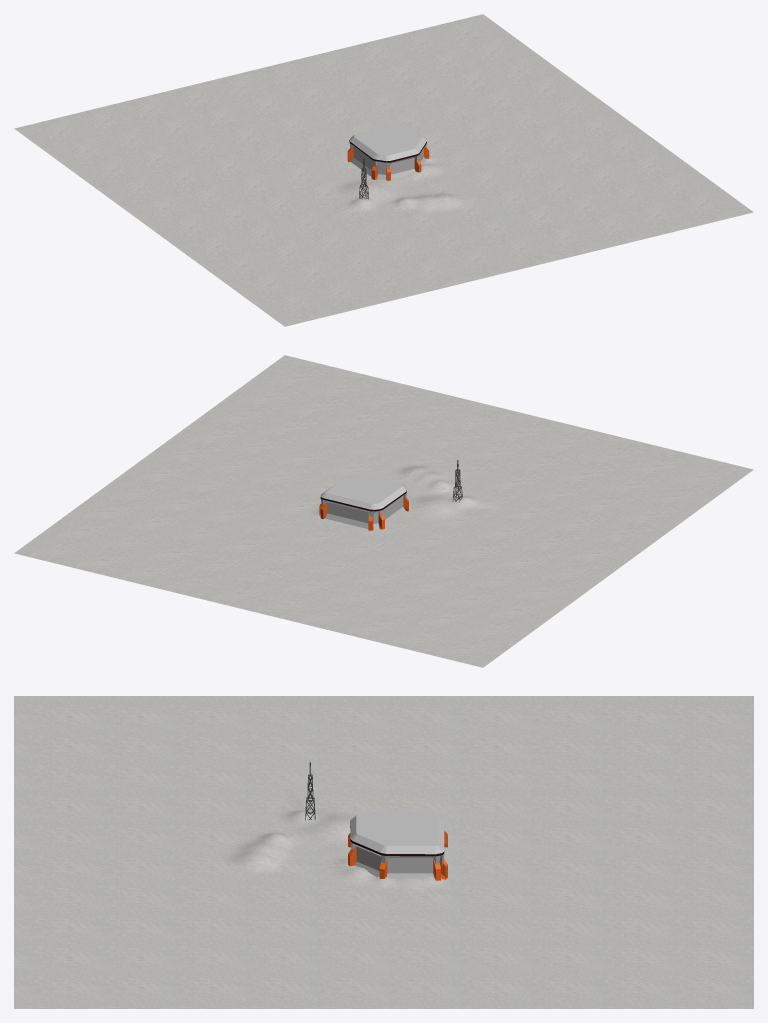
File: outsideSolid.fbx
3 views of the same model, one above another, from view 1: azimuth 30°, elevation 25°; view 2: azimuth 150°, elevation 25°; view 3: azimuth 270°, elevation 25° (orthographic). The views are drawn at different scales.
Parts seen in each view (by area): view 1: Cube, BaseOutside; view 2: Cube, BaseOutside; view 3: Cube, BaseOutside.
Boxes of the visible parts, x1=… form: Cube: x1=14, y1=14, x2=753, y2=326; BaseOutside: x1=347, y1=122, x2=429, y2=180; Cube: x1=14, y1=355, x2=753, y2=667; BaseOutside: x1=319, y1=475, x2=408, y2=530; Cube: x1=14, y1=696, x2=753, y2=1008; BaseOutside: x1=348, y1=811, x2=447, y2=880.
Bounding box in the file's own units: 14725 × 14725 × 1345.
